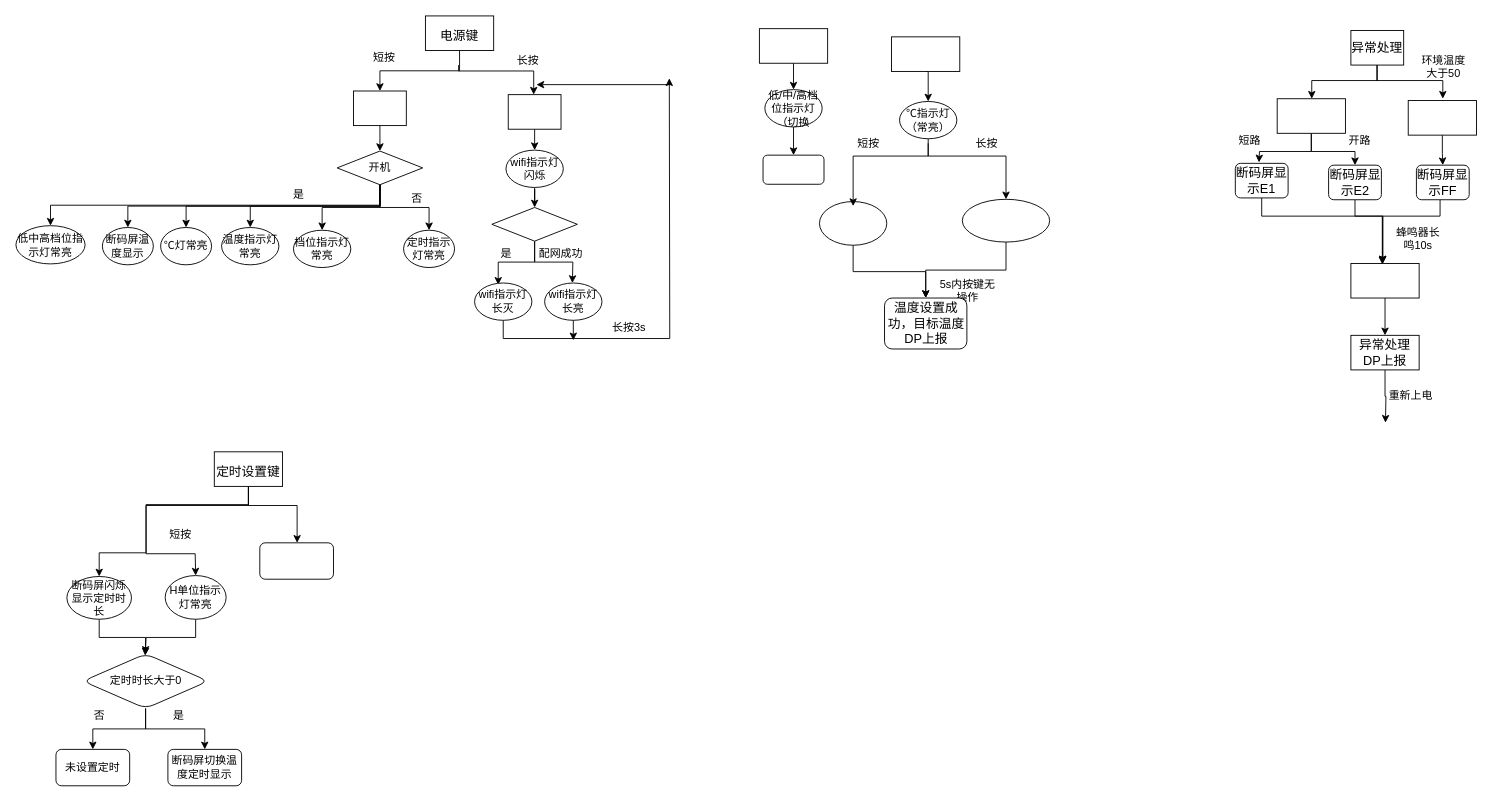
Image size: 1492x802. Some labels were removed from this diagram. The shapes that lost their labels are listed below. From the top down, each one's box as (x1, y1, x2, y2) in pixels, then its label:
(758, 28, 828, 63): 档位键
(891, 36, 960, 71): 温度设置键
(353, 90, 406, 126): 开关机
(507, 94, 561, 129): 配网
(1276, 98, 1345, 133): 温度传感异常
(1407, 100, 1476, 135): 安全保护
(762, 154, 824, 184): 档位DP上报
(491, 207, 577, 241): 配网超过3分钟
(819, 201, 887, 245): 断码屏闪烁显示目标温度档位值
(961, 198, 1050, 242): 温度每隔一秒上升一度循环显示，
(1350, 263, 1419, 298): 按键失效
(259, 542, 334, 579): 定时任务取消
